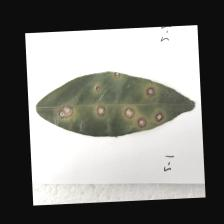canker: (45, 71, 169, 135)
